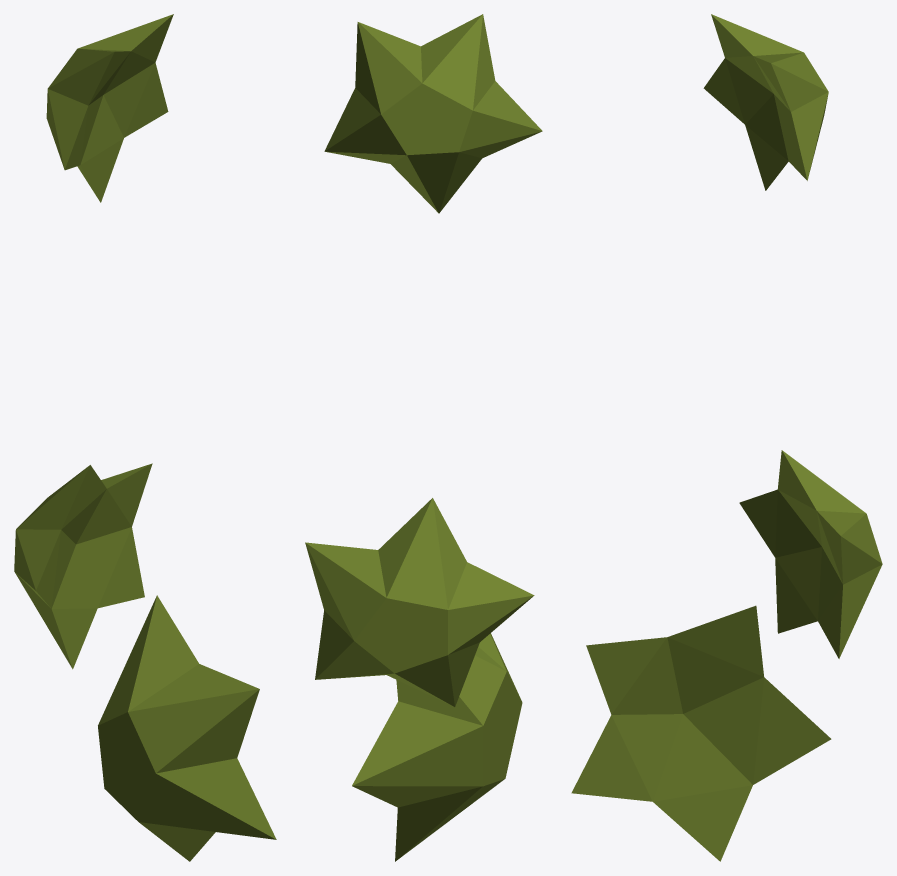
3 renders of one model, left to right at view 1: azimuth 30°, elevation 25°; view 2: azimuth 150°, elevation 25°; view 3: azimuth 270°, elevation 25°, orthographic. The views are drawn at different scales.
Visible parts, largest first — view 1: Box15915_green2_0, Box15910_green2_0, Box15918_green2_0; view 2: Box15910_green2_0, Box15918_green2_0, Box15915_green2_0; view 3: Box15915_green2_0, Box15910_green2_0, Box15918_green2_0.
Boxes of the visible parts, left/top/right/bottom form: Box15915_green2_0: left=98, top=595, right=276, bottom=861; Box15910_green2_0: left=14, top=463, right=152, bottom=669; Box15918_green2_0: left=46, top=14, right=173, bottom=202; Box15910_green2_0: left=305, top=498, right=534, bottom=706; Box15918_green2_0: left=324, top=14, right=542, bottom=213; Box15915_green2_0: left=352, top=633, right=522, bottom=861; Box15915_green2_0: left=571, top=605, right=831, bottom=861; Box15910_green2_0: left=739, top=450, right=882, bottom=658; Box15918_green2_0: left=703, top=14, right=828, bottom=190.
Bounding box in the file's own units: 88.96 × 419 × 146.
